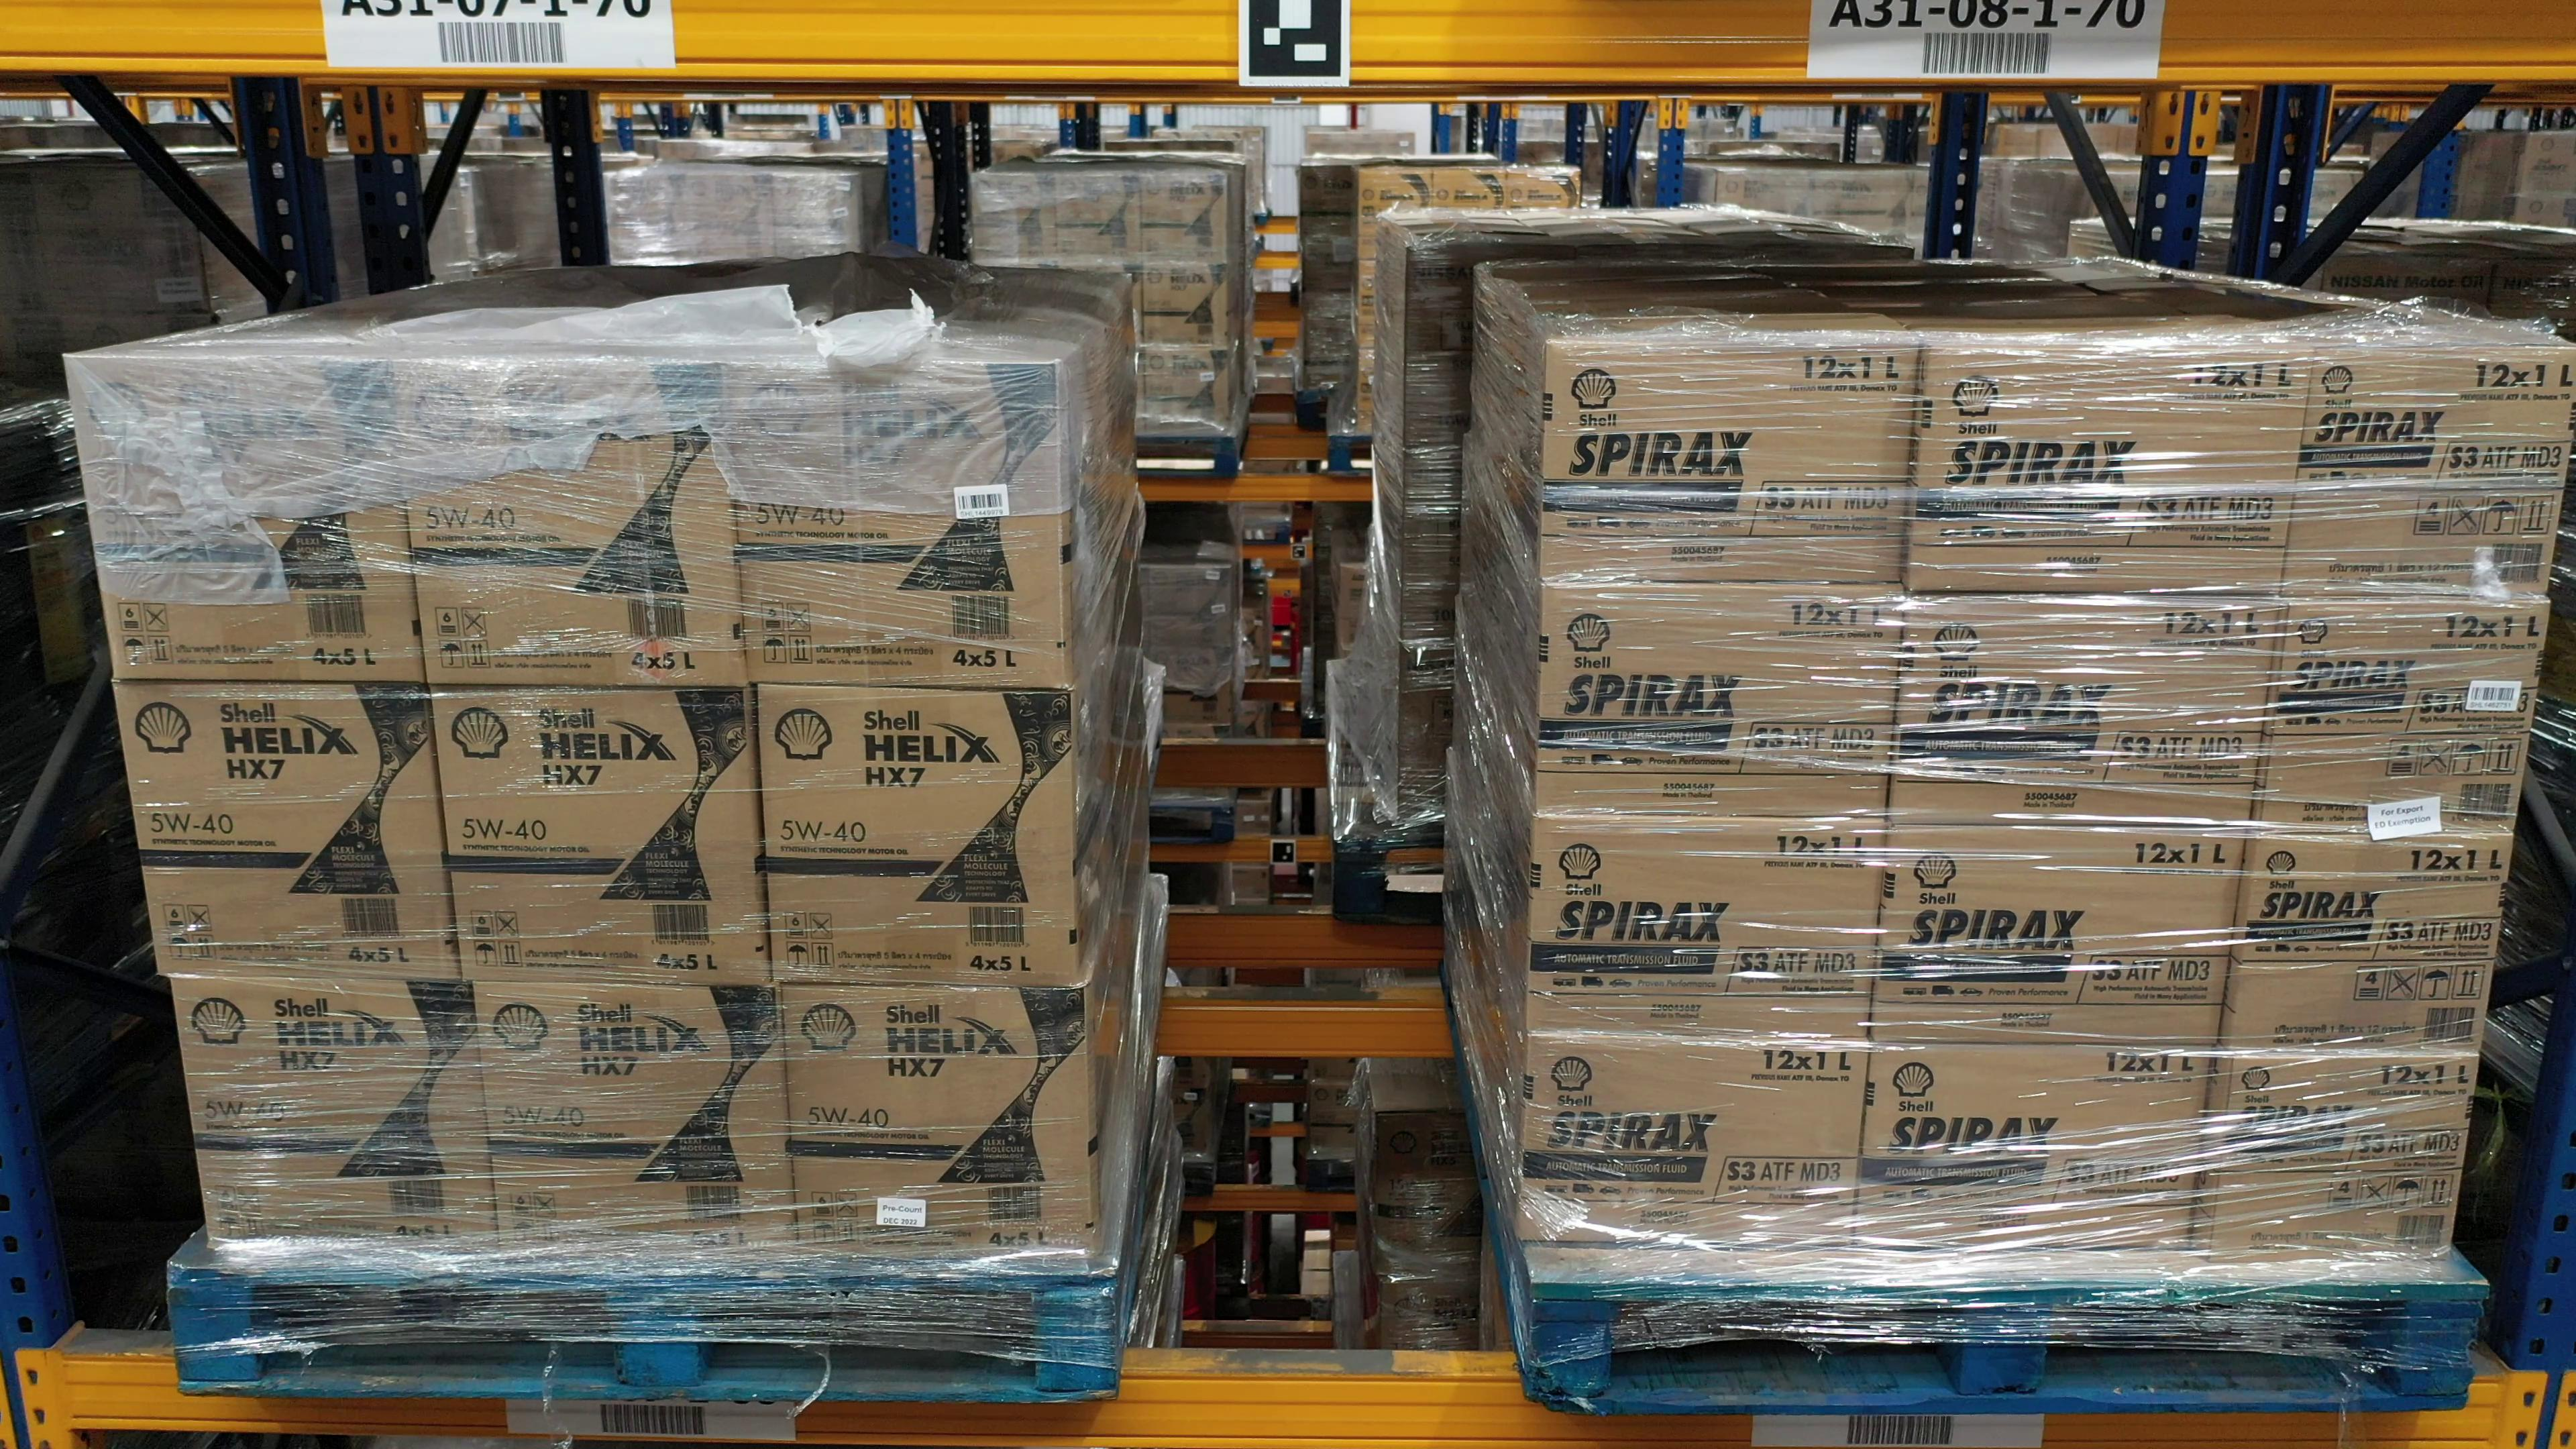-: (58, 354, 426, 688), (391, 356, 752, 688), (729, 357, 1069, 692), (430, 685, 778, 991), (111, 681, 464, 984), (1907, 347, 2312, 594), (754, 681, 1077, 985), (1536, 338, 1923, 586), (172, 975, 502, 1260), (1891, 591, 2282, 832), (474, 985, 800, 1263), (1532, 584, 1904, 819), (780, 984, 1093, 1260), (1870, 823, 2249, 1047), (1527, 816, 1886, 1040), (1514, 1040, 1875, 1247), (2281, 349, 2576, 600), (1858, 1044, 2210, 1251), (2250, 600, 2549, 832), (2224, 832, 2514, 1053), (2197, 1051, 2477, 1265)
